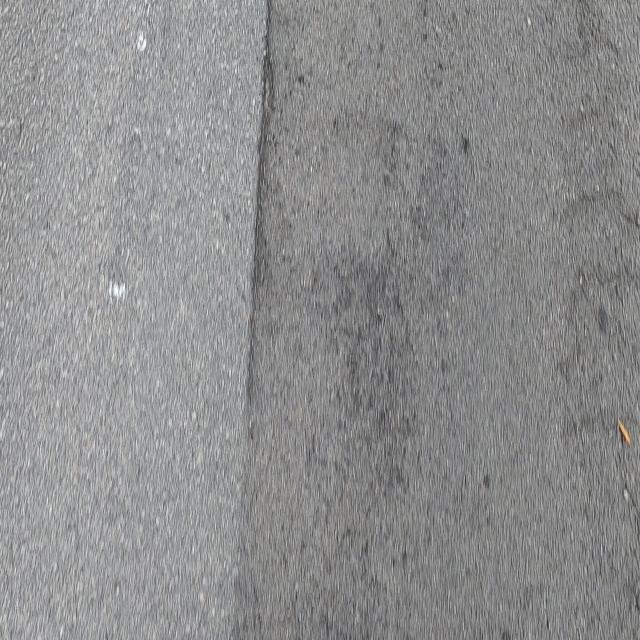Retak-Memanjang: (243, 0, 276, 382)
